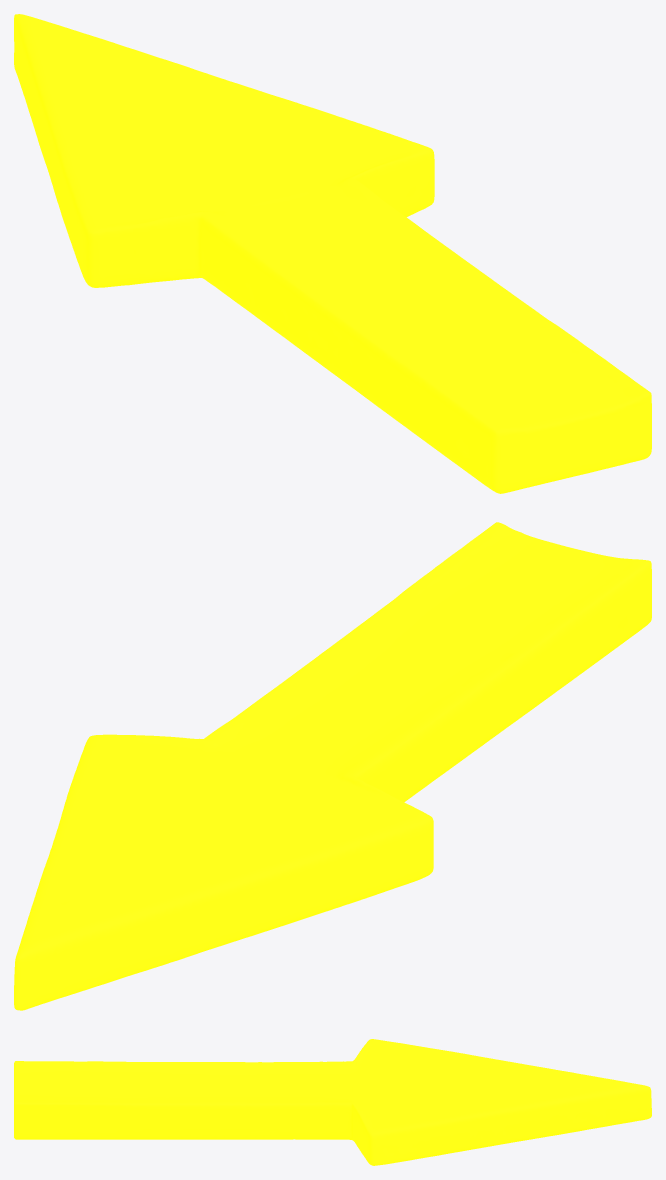
3 views of the same model, one above another, from view 1: azimuth 30°, elevation 25°; view 2: azimuth 150°, elevation 25°; view 3: azimuth 270°, elevation 25° (orthographic). The views are drawn at different scales.
Visible parts, largest first — view 1: Mesh_0.001; view 2: Mesh_0.001; view 3: Mesh_0.001.
Boxes of the visible parts, box(x1,y1,x2,y2) form: Mesh_0.001: box(14, 14, 651, 493); Mesh_0.001: box(14, 522, 651, 1010); Mesh_0.001: box(14, 1039, 651, 1165).
Size of the model in its own units: 0.7153 by 0.1349 by 2.
